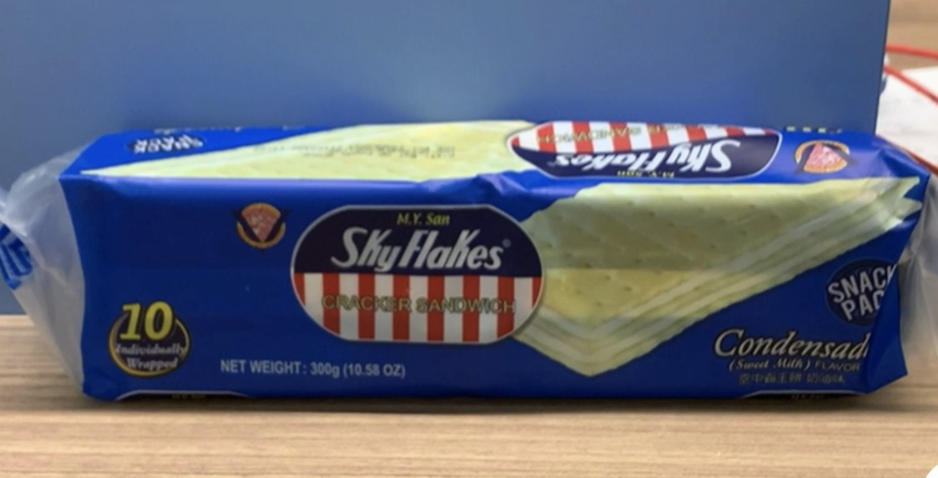crackers_150g: (99, 149, 901, 394)
